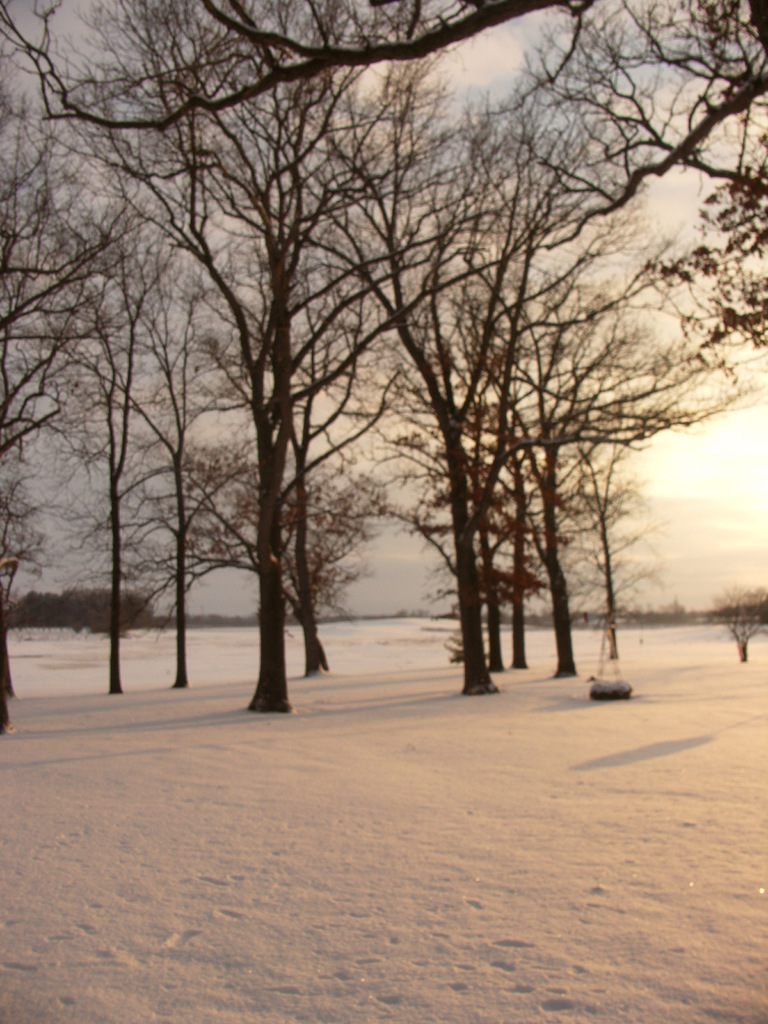Tree: (0, 0, 767, 736), (2, 585, 174, 641)
